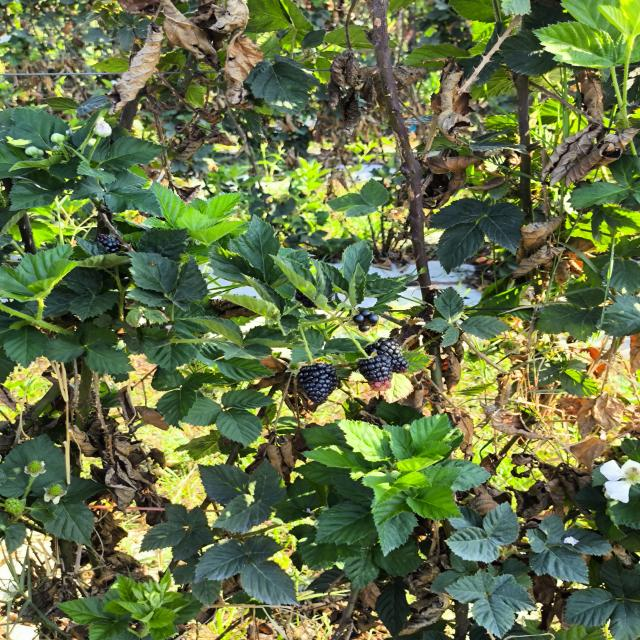boton: (25, 146, 44, 158), (51, 133, 65, 143)
flor: (599, 460, 640, 503)
maduro: (297, 363, 337, 404), (365, 337, 408, 373), (96, 234, 121, 253)
marron: (358, 354, 392, 391)
